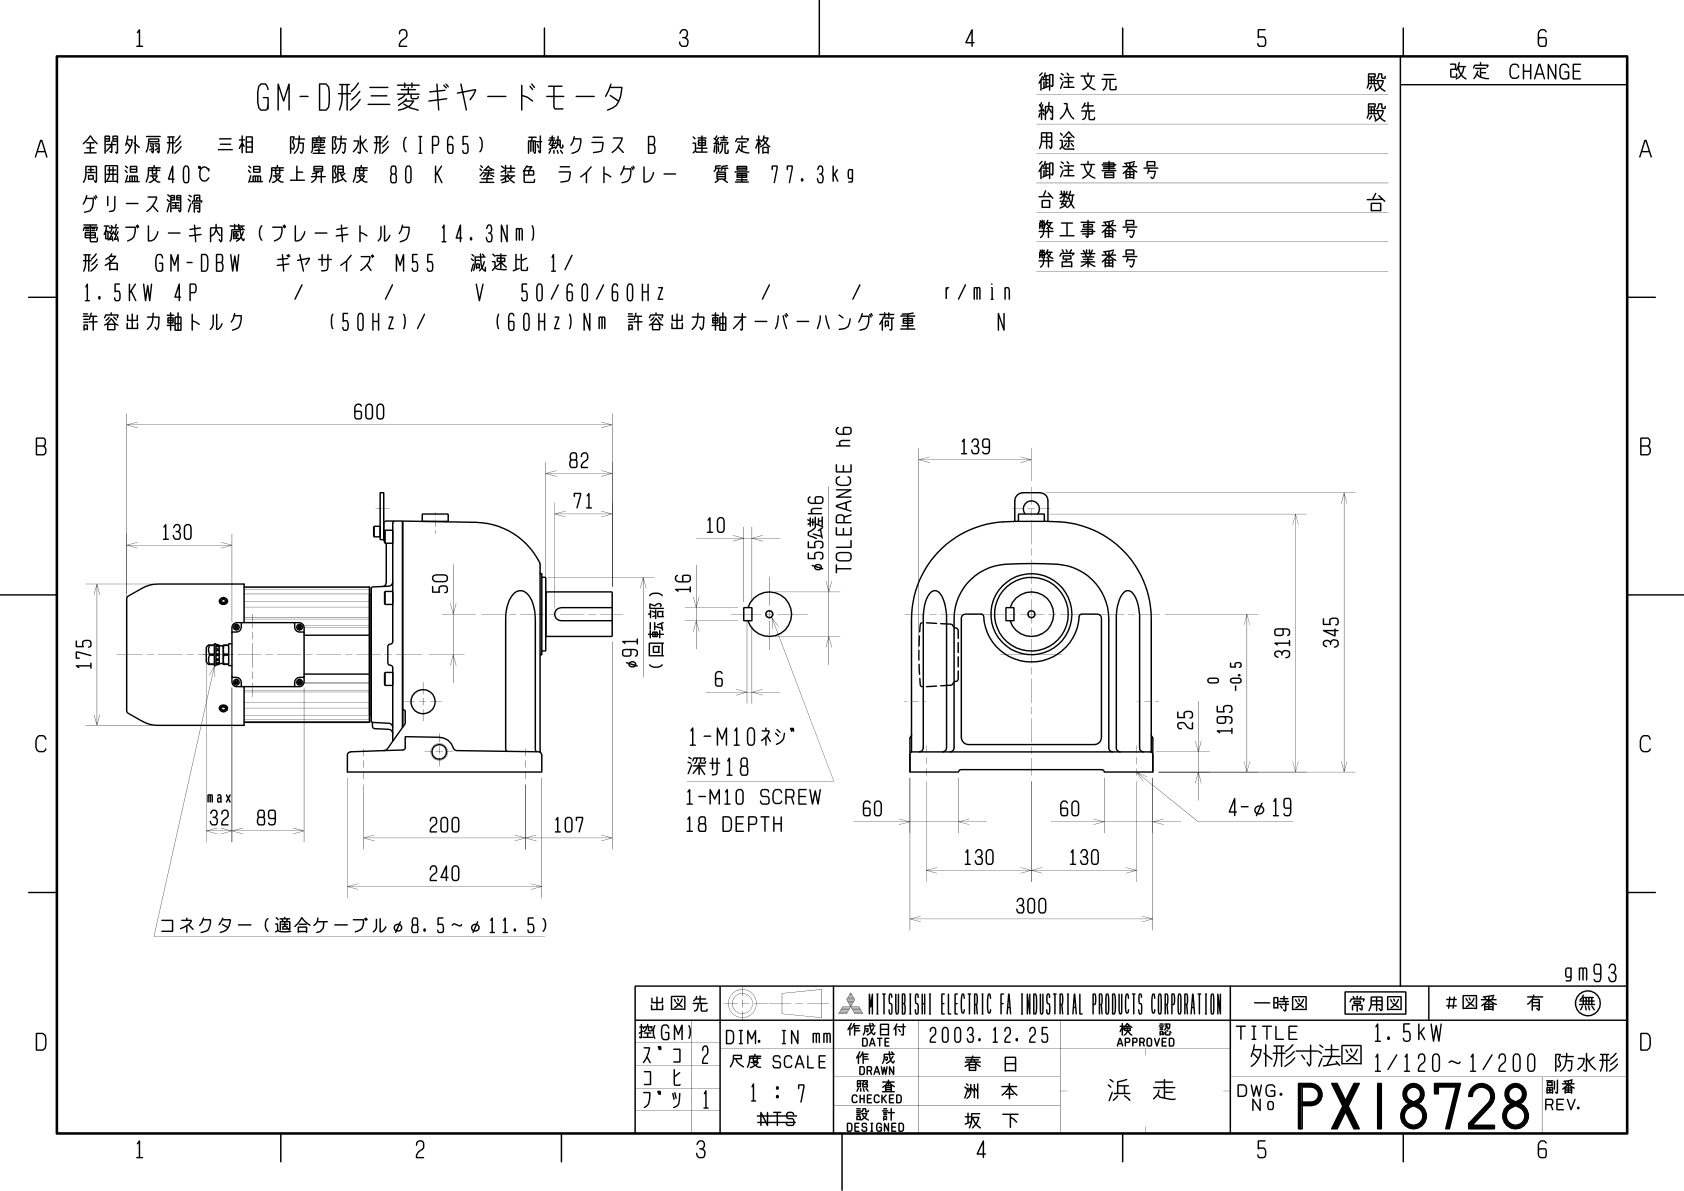GM_D_IP65_三相_脚: (63, 365, 1375, 951)
